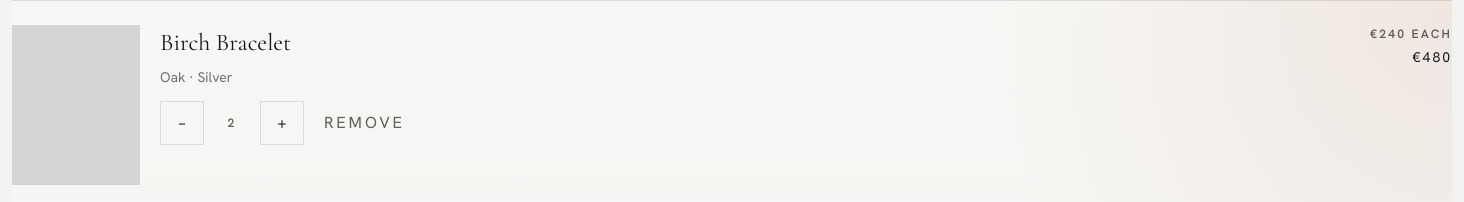
Test case: CartItemRow › surfaces an action failure instead of failing silently (REV-11)
Click the button named "Increase quantity": (282, 123) [260,101,304,145]
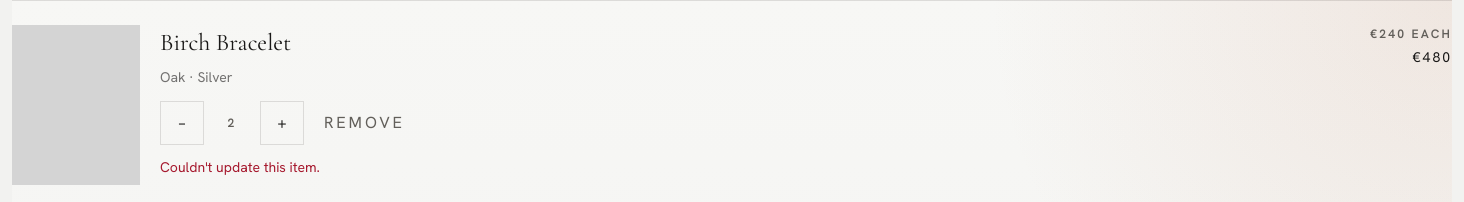
Now the message reads "Couldn't update this item.", box [160,158,320,176]
